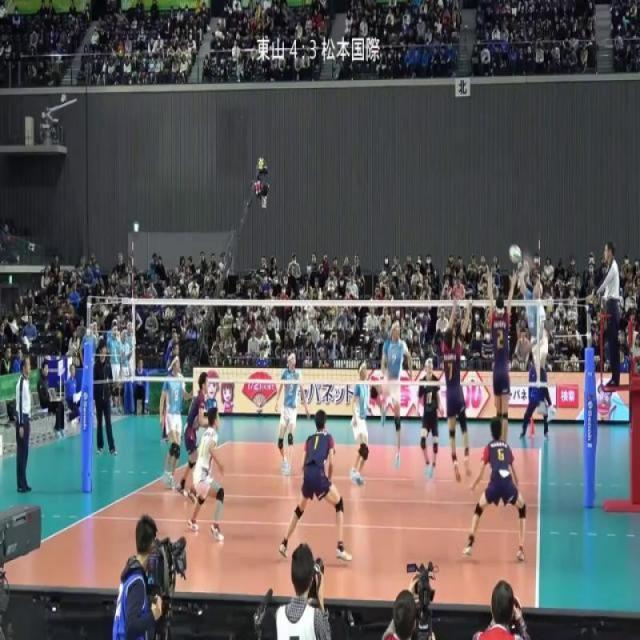volleyball: (508, 243, 522, 264)
